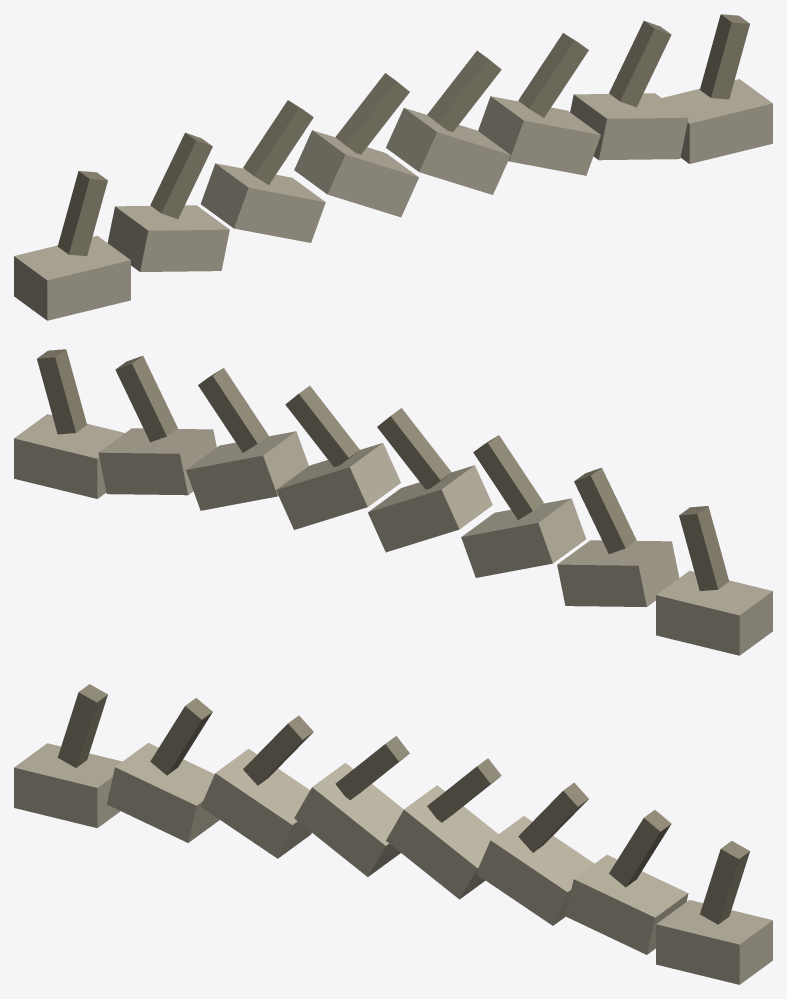
Rendered from land-forest-39.glb.
3 views of the same model, one above another, from view 1: azimuth 30°, elevation 25°; view 2: azimuth 150°, elevation 25°; view 3: azimuth 330°, elevation 25° (orthographic).
Visible parts, largest first — view 1: land.forest.39; view 2: land.forest.39; view 3: land.forest.39.
Boxes of the visible parts, left/top/right/bottom form: land.forest.39: left=14, top=14, right=772, bottom=320; land.forest.39: left=14, top=349, right=772, bottom=655; land.forest.39: left=14, top=684, right=772, bottom=984.
Size of the model in its own units: 1.82 by 0.3449 by 0.1451.
